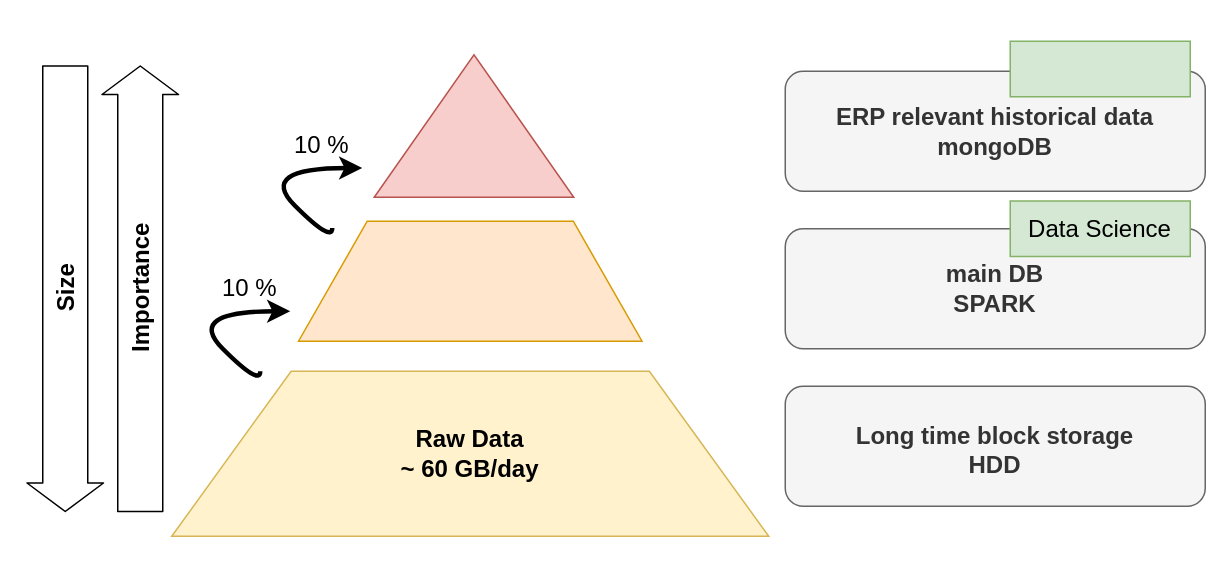
Image size: 1232x563. Some labels were removed from this diagram. The shapes that lost their labels are listed below. From the top down, each one's centre as x and y in pixels, then its label:
At pixel 1099 68: "ERP".
At pixel 473 125: "Critical ~ 0.6 GB/day".
At pixel 469 280: "Aggregated ~ 6 GB/day".
